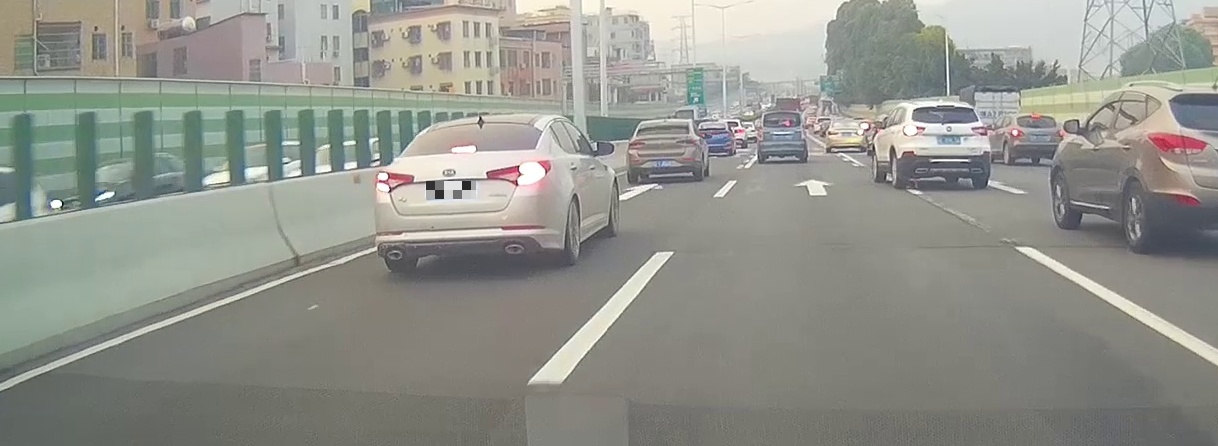L_light: (376, 171, 415, 194), (903, 126, 925, 135), (628, 141, 645, 149), (758, 126, 764, 140), (1012, 129, 1024, 136), (828, 130, 839, 135)
R_light: (485, 160, 551, 186), (971, 127, 988, 136), (676, 139, 696, 145), (800, 124, 806, 139), (1055, 129, 1064, 137), (855, 130, 864, 136)
T_light: (450, 145, 476, 153), (936, 104, 955, 109), (658, 121, 671, 125), (1030, 114, 1041, 118), (777, 112, 786, 115), (841, 121, 849, 123)
day-brake: (375, 113, 553, 272)
day-left: (902, 101, 991, 188), (1010, 114, 1064, 165)
day-no: (626, 118, 702, 184), (757, 110, 807, 162)
day-right: (827, 119, 867, 152)
plate_1: (426, 181, 476, 199)
